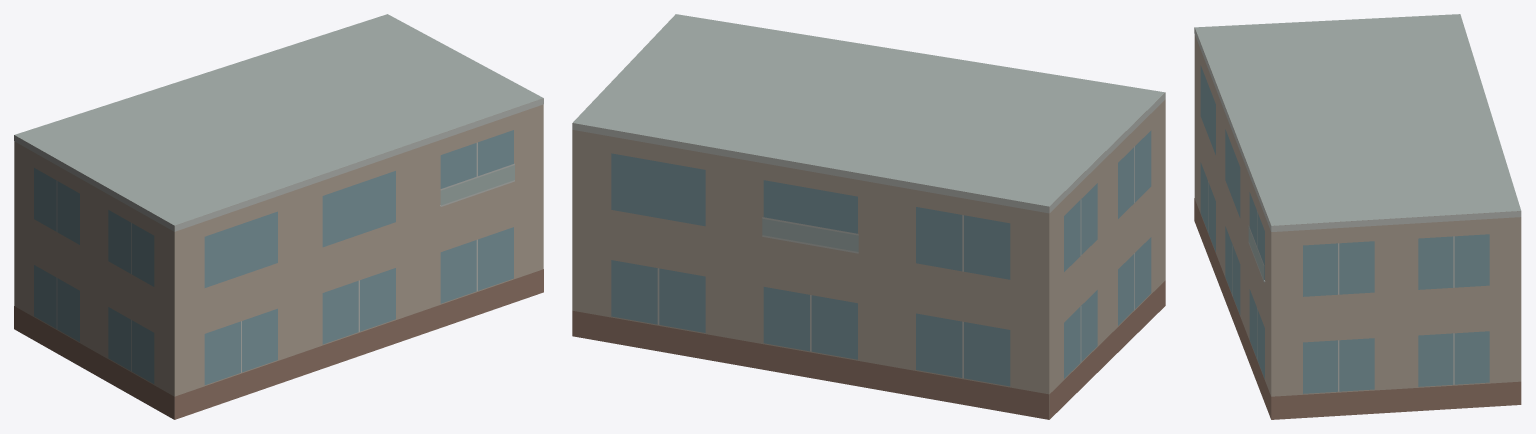
Rendered from survey-upis-32637712.glb.
3 renders of one model, left to right at view 1: azimuth 30°, elevation 25°; view 2: azimuth 150°, elevation 25°; view 3: azimuth 270°, elevation 25°, orthographic. The views are drawn at different scales.
Parts seen in each view (by area): view 1: survey-upis-32637712.tmp; view 2: survey-upis-32637712.tmp; view 3: survey-upis-32637712.tmp.
Boxes of the visible parts, x1,y1,x2,y2 form: survey-upis-32637712.tmp: (14,14,543,419); survey-upis-32637712.tmp: (572,14,1165,419); survey-upis-32637712.tmp: (1194,14,1521,419).
Size of the model in its own units: 17.82 by 7.6 by 11.61.
